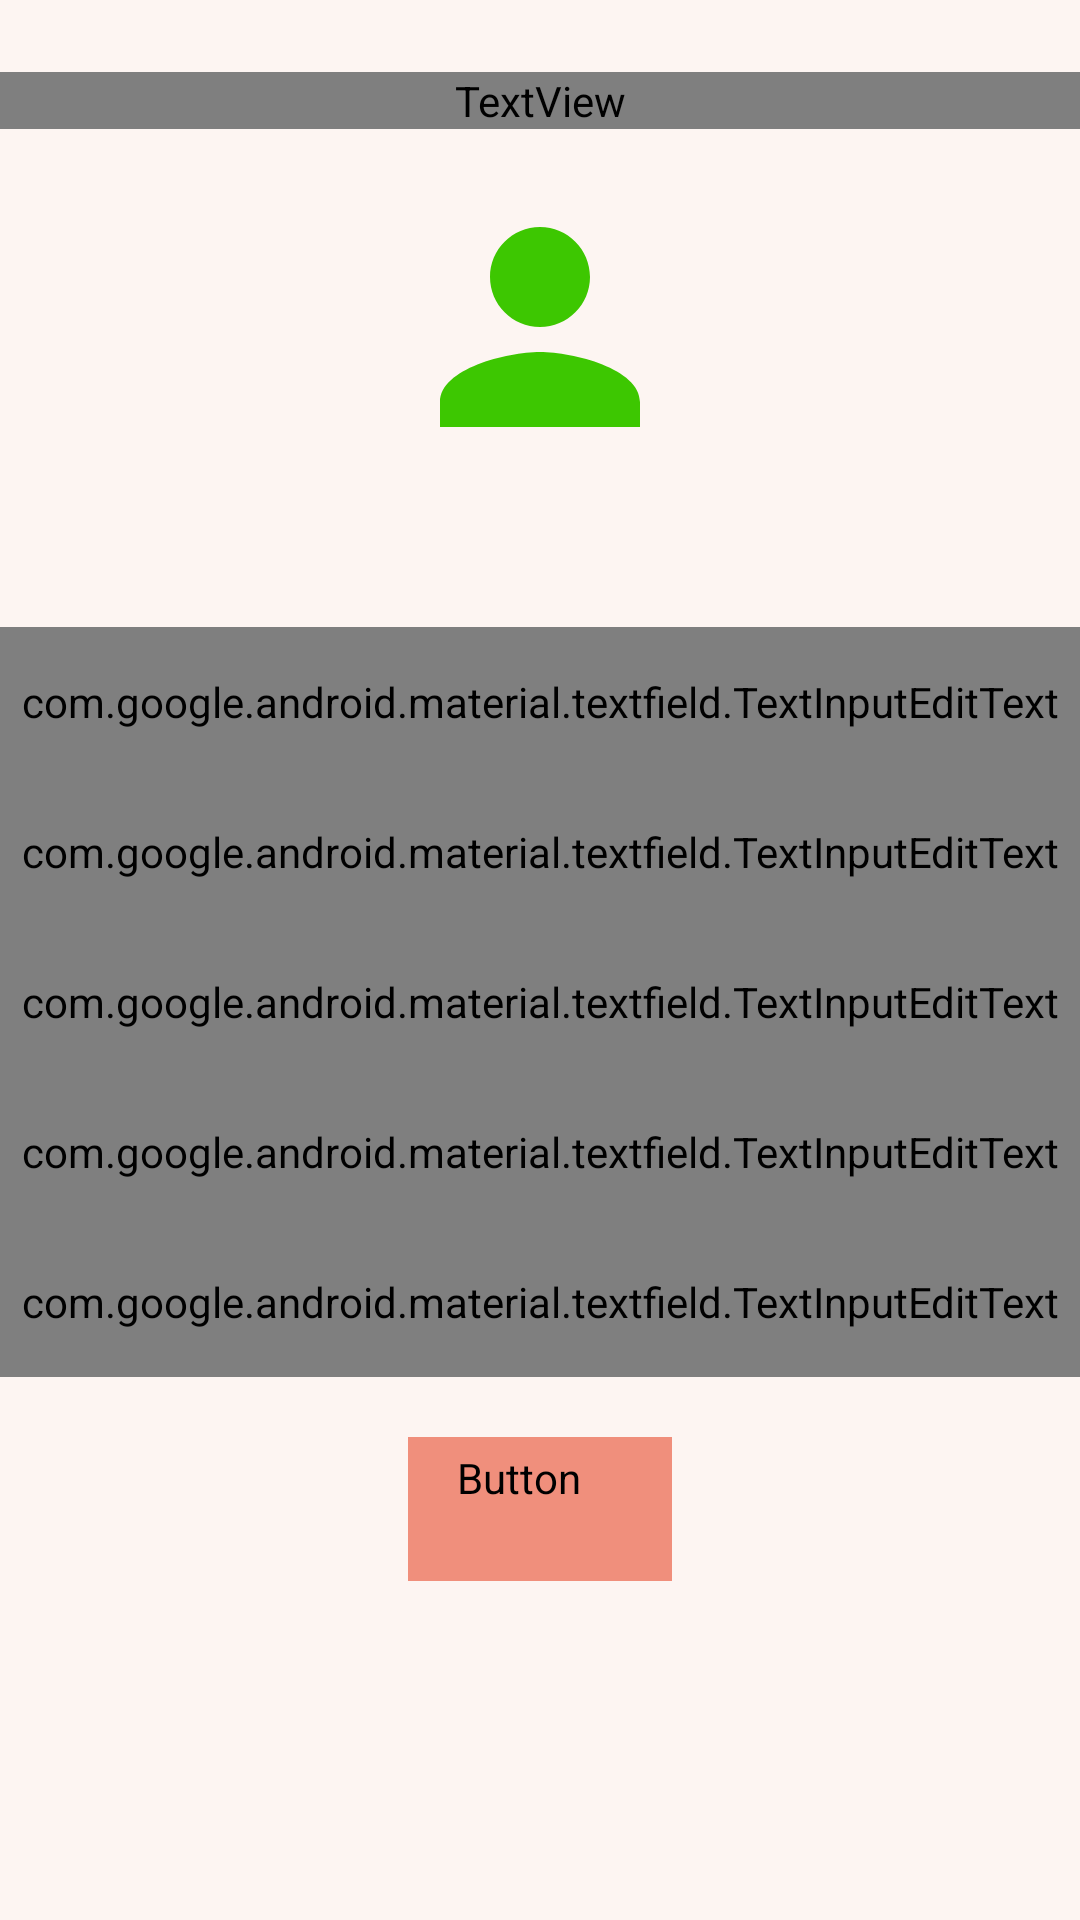

Icon click points for this 1080px x 1920px phone screenshot, format (x,y):
person: (540,327)
